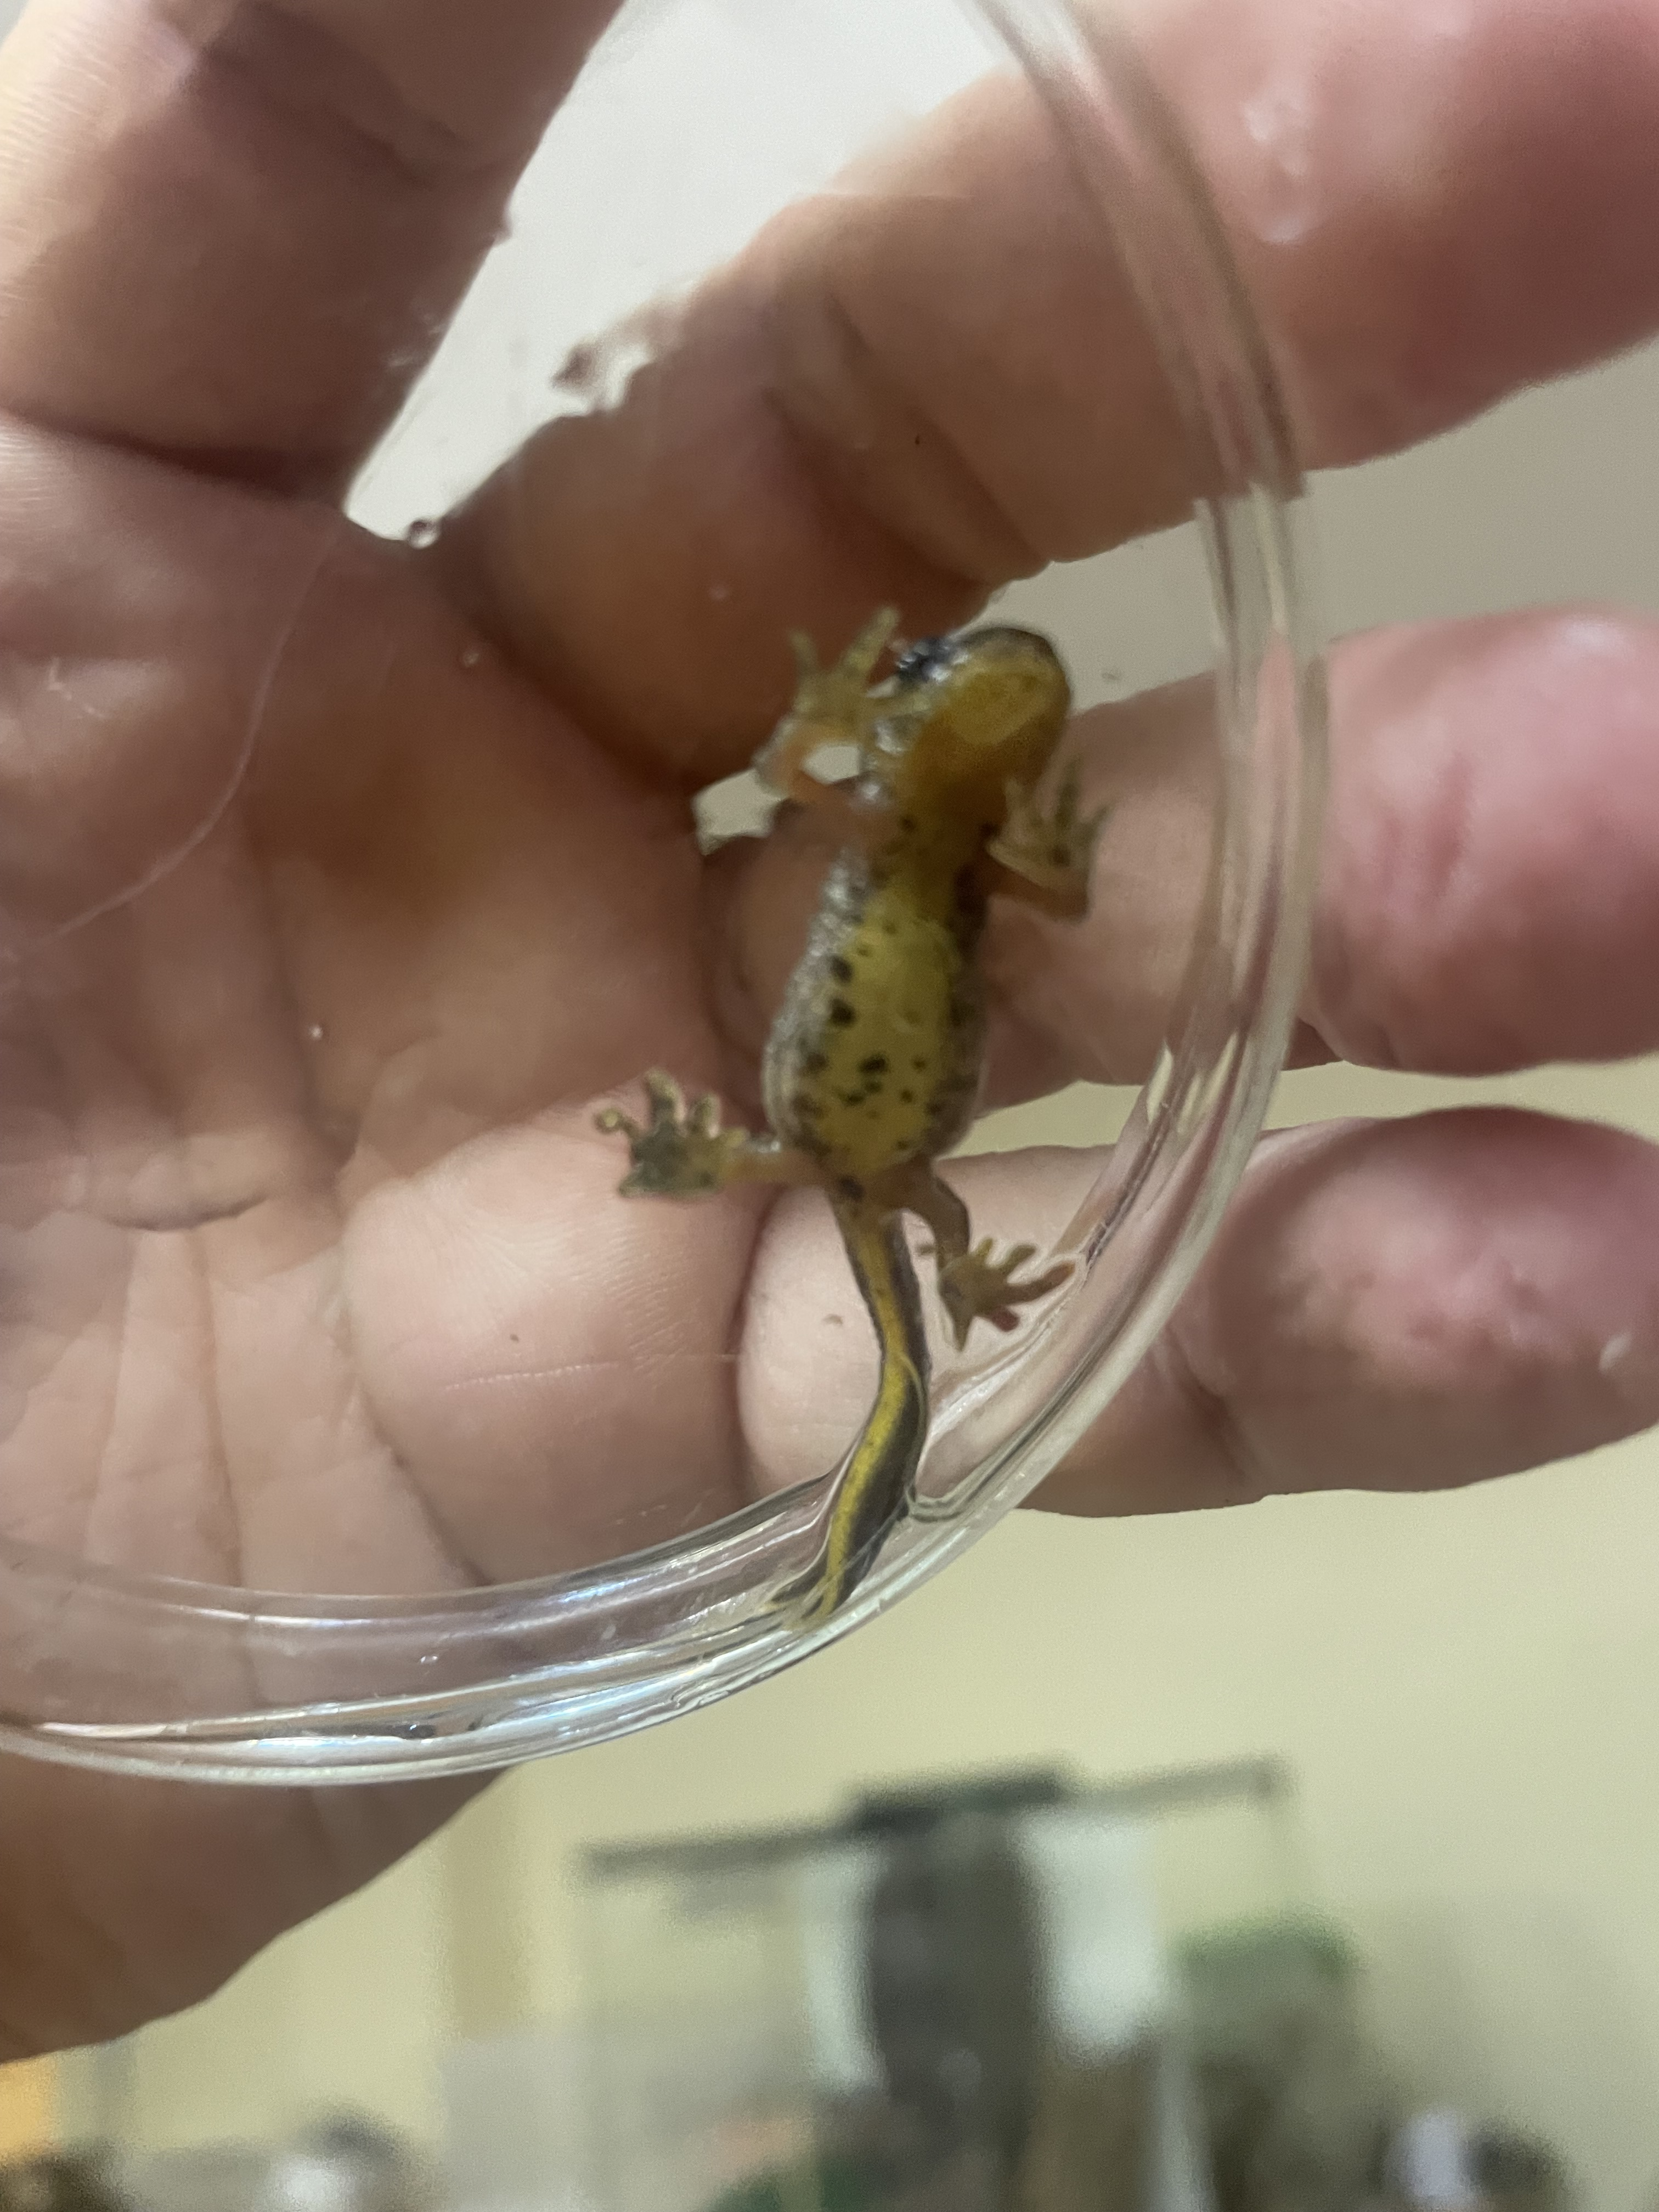Karelin_newt: (763, 848, 993, 1160)
